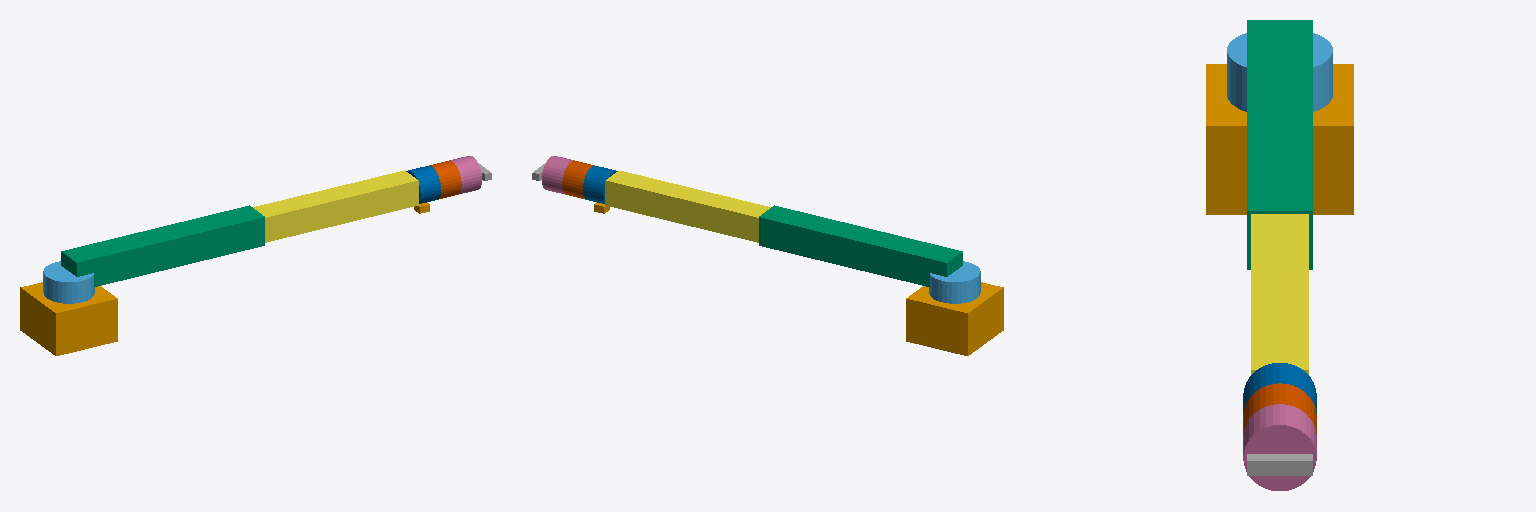
The robot description file, URDF, robot "wr6_longreach":
<?xml version="1.0" encoding="utf-8"?>
<robot name="wr6_longreach">

  <!-- Base Link -->
  <link name="base_link">
    <visual>
      <geometry><box size="0.18 0.18 0.12"/></geometry>
      <origin xyz="0 0 0.06" rpy="0 0 0"/>
    </visual>
    <collision>
      <geometry><box size="0.18 0.18 0.12"/></geometry>
      <origin xyz="0 0 0.06" rpy="0 0 0"/>
    </collision>
    <inertial>
      <mass value="5.0"/>
      <origin xyz="0 0 0.06" rpy="0 0 0"/>
      <inertia ixx="0.015" ixy="0" ixz="0" iyy="0.015" iyz="0" izz="0.015"/>
    </inertial>
  </link>

  <!-- Shoulder Pan Link -->
  <link name="shoulder_pan_link">
    <visual>
      <geometry><cylinder radius="0.065" length="0.06"/></geometry>
      <origin xyz="0 0 0.03" rpy="0 0 0"/>
    </visual>
    <collision>
      <geometry><cylinder radius="0.065" length="0.06"/></geometry>
      <origin xyz="0 0 0.03" rpy="0 0 0"/>
    </collision>
    <inertial>
      <mass value="2.0"/>
      <origin xyz="0 0 0.03" rpy="0 0 0"/>
      <inertia ixx="0.003" ixy="0" ixz="0" iyy="0.003" iyz="0" izz="0.003"/>
    </inertial>
  </link>

  <joint name="shoulder_pan" type="revolute">
    <parent link="base_link"/>
    <child link="shoulder_pan_link"/>
    <origin xyz="0 0 0.12" rpy="0 0 0"/>
    <axis xyz="0 0 1"/>
    <limit lower="-3.14159265" upper="3.14159265" effort="120.0" velocity="1.5"/>
  </joint>

  <!-- Shoulder Lift Link -->
  <link name="shoulder_lift_link">
    <visual>
      <geometry><box size="0.08 0.08 0.55"/></geometry>
      <origin xyz="0 0 0.275" rpy="0 0 0"/>
    </visual>
    <collision>
      <geometry><box size="0.08 0.08 0.55"/></geometry>
      <origin xyz="0 0 0.275" rpy="0 0 0"/>
    </collision>
    <inertial>
      <mass value="4.0"/>
      <origin xyz="0 0 0.275" rpy="0 0 0"/>
      <inertia ixx="0.08" ixy="0" ixz="0" iyy="0.08" iyz="0" izz="0.008"/>
    </inertial>
  </link>

  <joint name="shoulder_lift" type="revolute">
    <parent link="shoulder_pan_link"/>
    <child link="shoulder_lift_link"/>
    <origin xyz="0 0 0.06" rpy="0 1.5707963268 0"/>
    <axis xyz="0 1 0"/>
    <limit lower="-3.14159265" upper="3.14159265" effort="200.0" velocity="1.0"/>
  </joint>

  <!-- Elbow Link -->
  <link name="elbow_link">
    <visual>
      <geometry><box size="0.07 0.07 0.45"/></geometry>
      <origin xyz="0 0 0.225" rpy="0 0 0"/>
    </visual>
    <collision>
      <geometry><box size="0.07 0.07 0.45"/></geometry>
      <origin xyz="0 0 0.225" rpy="0 0 0"/>
    </collision>
    <inertial>
      <mass value="2.5"/>
      <origin xyz="0 0 0.225" rpy="0 0 0"/>
      <inertia ixx="0.04" ixy="0" ixz="0" iyy="0.04" iyz="0" izz="0.004"/>
    </inertial>
  </link>

  <joint name="elbow" type="revolute">
    <parent link="shoulder_lift_link"/>
    <child link="elbow_link"/>
    <origin xyz="0 0 0.55" rpy="0 0 0"/>
    <axis xyz="0 1 0"/>
    <limit lower="-3.14159265" upper="0" effort="120.0" velocity="1.5"/>
  </joint>

  <!-- Wrist 1 Link -->
  <link name="wrist_1_link">
    <visual>
      <geometry><cylinder radius="0.045" length="0.06"/></geometry>
      <origin xyz="0 0 0.03" rpy="0 0 0"/>
    </visual>
    <collision>
      <geometry><cylinder radius="0.045" length="0.06"/></geometry>
      <origin xyz="0 0 0.03" rpy="0 0 0"/>
    </collision>
    <inertial>
      <mass value="1.0"/>
      <origin xyz="0 0 0.03" rpy="0 0 0"/>
      <inertia ixx="0.0015" ixy="0" ixz="0" iyy="0.0015" iyz="0" izz="0.0015"/>
    </inertial>
  </link>

  <joint name="wrist_1" type="revolute">
    <parent link="elbow_link"/>
    <child link="wrist_1_link"/>
    <origin xyz="0 0 0.45" rpy="0 0 0"/>
    <axis xyz="0 1 0"/>
    <limit lower="-1.5707963268" upper="1.5707963268" effort="60.0" velocity="2.0"/>
  </joint>

  <!-- Wrist 2 Link -->
  <link name="wrist_2_link">
    <visual>
      <geometry><cylinder radius="0.045" length="0.06"/></geometry>
      <origin xyz="0 0 0.03" rpy="0 0 0"/>
    </visual>
    <collision>
      <geometry><cylinder radius="0.045" length="0.06"/></geometry>
      <origin xyz="0 0 0.03" rpy="0 0 0"/>
    </collision>
    <inertial>
      <mass value="1.0"/>
      <origin xyz="0 0 0.03" rpy="0 0 0"/>
      <inertia ixx="0.0015" ixy="0" ixz="0" iyy="0.0015" iyz="0" izz="0.0015"/>
    </inertial>
  </link>

  <joint name="wrist_2" type="revolute">
    <parent link="wrist_1_link"/>
    <child link="wrist_2_link"/>
    <origin xyz="0 0 0.06" rpy="0 0 0"/>
    <axis xyz="0 0 1"/>
    <limit lower="-3.14159265" upper="3.14159265" effort="60.0" velocity="2.0"/>
  </joint>

  <!-- Wrist 3 Link -->
  <link name="wrist_3_link">
    <visual>
      <geometry><cylinder radius="0.045" length="0.06"/></geometry>
      <origin xyz="0 0 0.03" rpy="0 0 0"/>
    </visual>
    <collision>
      <geometry><cylinder radius="0.045" length="0.06"/></geometry>
      <origin xyz="0 0 0.03" rpy="0 0 0"/>
    </collision>
    <inertial>
      <mass value="0.8"/>
      <origin xyz="0 0 0.03" rpy="0 0 0"/>
      <inertia ixx="0.0008" ixy="0" ixz="0" iyy="0.0008" iyz="0" izz="0.0008"/>
    </inertial>
  </link>

  <joint name="wrist_3" type="revolute">
    <parent link="wrist_2_link"/>
    <child link="wrist_3_link"/>
    <origin xyz="0 0 0.06" rpy="0 0 0"/>
    <axis xyz="0 1 0"/>
    <limit lower="-1.5707963268" upper="1.5707963268" effort="60.0" velocity="2.0"/>
  </joint>

  <!-- Tool0 (end-effector frame) -->
  <link name="tool0">
    <visual>
      <geometry><box size="0.02 0.08 0.02"/></geometry>
    </visual>
    <collision>
      <geometry><box size="0.02 0.08 0.02"/></geometry>
    </collision>
    <inertial>
      <mass value="0.1"/>
      <inertia ixx="0.0001" ixy="0" ixz="0" iyy="0.0001" iyz="0" izz="0.0001"/>
    </inertial>
  </link>

  <joint name="tool_joint" type="fixed">
    <parent link="wrist_3_link"/>
    <child link="tool0"/>
    <origin xyz="0 0 0.08" rpy="0 0 0"/>
  </joint>

  <!-- Camera Link -->
  <link name="camera_link">
    <visual>
      <geometry><box size="0.03 0.03 0.02"/></geometry>
    </visual>
    <collision>
      <geometry><box size="0.03 0.03 0.02"/></geometry>
    </collision>
    <inertial>
      <mass value="0.05"/>
      <inertia ixx="0.00001" ixy="0" ixz="0" iyy="0.00001" iyz="0" izz="0.00001"/>
    </inertial>
  </link>

  <joint name="camera_joint" type="fixed">
    <parent link="wrist_1_link"/>
    <child link="camera_link"/>
    <origin xyz="0.06 0 0.03" rpy="0 -1.5707963268 0"/>
  </joint>

</robot>

--- Facts derived from the render (not from the file) ---
Views: 3 orthographic renders of the robot side by side, from view 1: azimuth 30°, elevation 25°; view 2: azimuth 150°, elevation 25°; view 3: azimuth 270°, elevation 25°.
Robot: wr6_longreach — 9 links, 8 joints (6 revolute, 2 fixed); root link base_link; default pose: every joint at zero.
Links seen in each view (by area): view 1: shoulder_lift_link, elbow_link, base_link, shoulder_pan_link, wrist_1_link, wrist_3_link, wrist_2_link; view 2: shoulder_lift_link, elbow_link, base_link, shoulder_pan_link, wrist_1_link, wrist_3_link, wrist_2_link; view 3: shoulder_lift_link, base_link, elbow_link, wrist_3_link, shoulder_pan_link, wrist_1_link, wrist_2_link, tool0.
Link boxes in pixels (x1,y1,x2,y2): shoulder_lift_link: (61,205,264,286); elbow_link: (253,170,418,242); base_link: (20,282,117,355); shoulder_pan_link: (43,261,94,303); wrist_1_link: (406,166,440,203); wrist_3_link: (450,156,481,194); wrist_2_link: (429,160,461,199); shoulder_lift_link: (759,205,962,286); elbow_link: (605,170,770,242); base_link: (906,282,1003,355); shoulder_pan_link: (929,261,980,303); wrist_1_link: (583,166,617,203); wrist_3_link: (542,156,573,194); wrist_2_link: (562,160,594,199); shoulder_lift_link: (1247,20,1312,269); base_link: (1206,64,1353,214); elbow_link: (1251,214,1308,374); wrist_3_link: (1243,404,1316,490); shoulder_pan_link: (1227,33,1332,111); wrist_1_link: (1243,363,1316,413); wrist_2_link: (1243,383,1316,433); tool0: (1247,454,1312,475).
Bounding box of the posed robot: 1.3 × 0.18 × 0.225 m (x, y, z).
Geometry: primitives only (box / cylinder / sphere), no mesh files.
